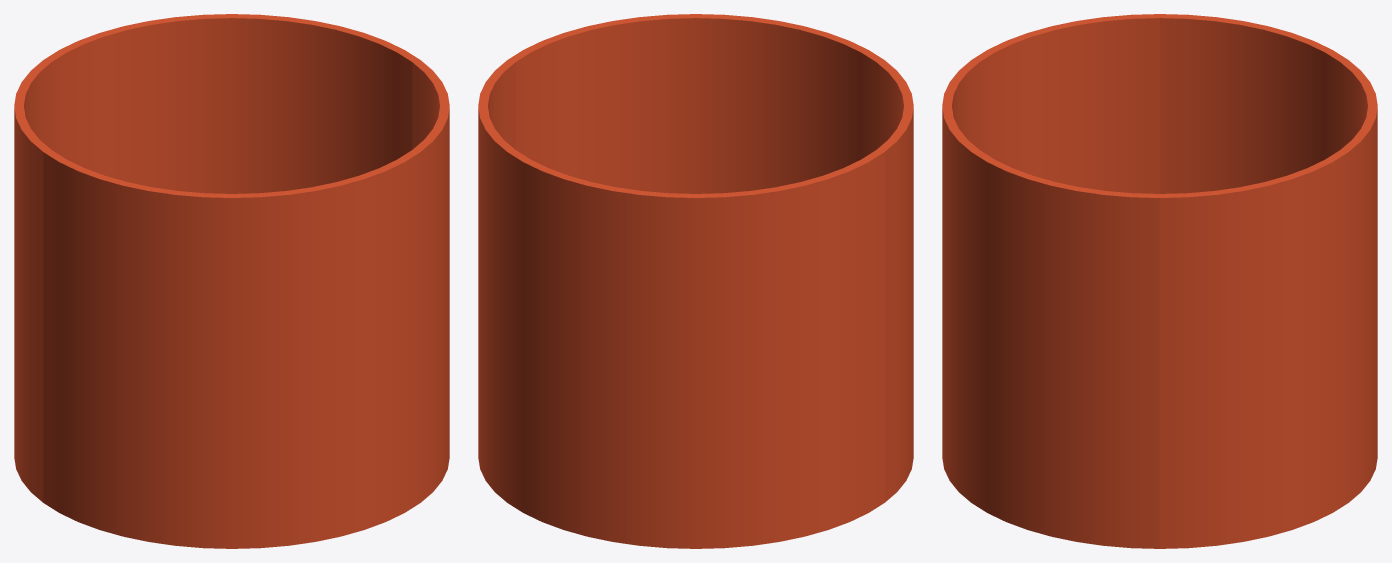
File: alumina_pneumatic_conveying_system_pressure.glb
The picture shows the model from 3 angles, left to right: view 1: azimuth 30°, elevation 25°; view 2: azimuth 150°, elevation 25°; view 3: azimuth 270°, elevation 25°; orthographic projection.
Parts seen in each view (by area): view 1: pressure__front, pressure__back; view 2: pressure__back, pressure__front; view 3: pressure__back, pressure__front.
Boxes of the visible parts, <box> form: pressure__front: <box>43,60,449,548</box>; pressure__back: <box>14,14,419,502</box>; pressure__back: <box>478,60,884,548</box>; pressure__front: <box>508,14,913,502</box>; pressure__back: <box>1160,14,1377,548</box>; pressure__front: <box>942,14,1159,548</box>.
Bounding box in the file's own units: 0.9 × 0.8 × 0.9.
